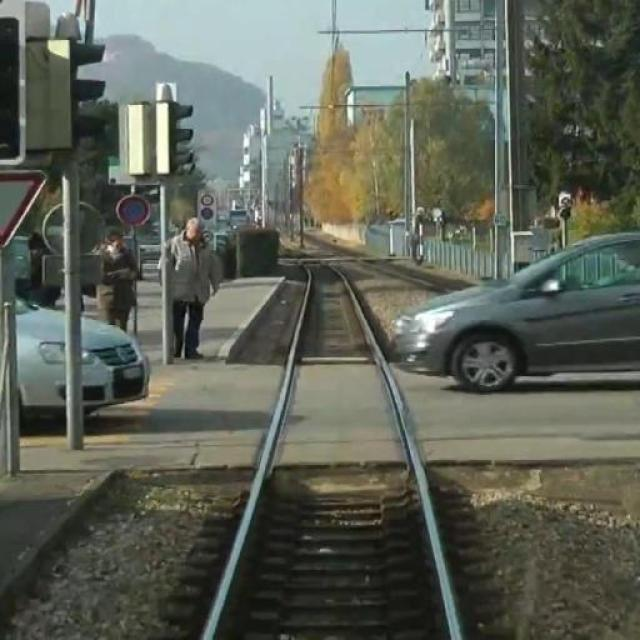people: (164, 217, 220, 364), (98, 229, 144, 338)
vehicle: (398, 227, 640, 393), (11, 283, 154, 426)
